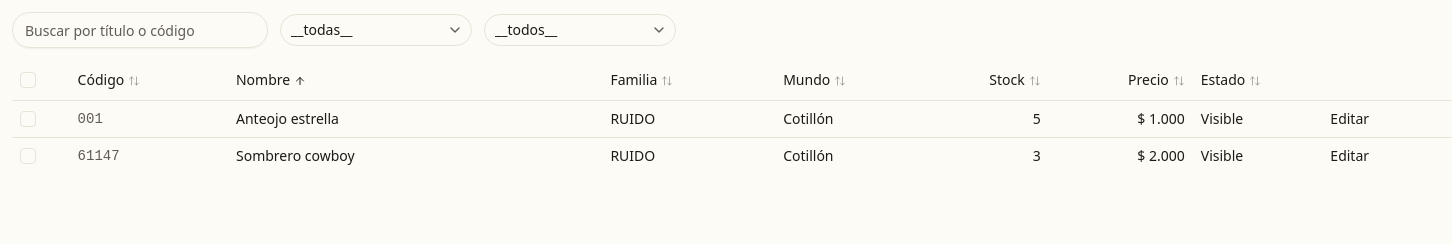
Test: PublicadoTab — selección múltiple › cambiar la búsqueda limpia la selección (una fila seleccionada puede quedar oculta por el filtro)
This screenshot has width=1452, height=244.
Check: the row "001 Anteojo estrella RUIDO Cotillón 5 $ 1.000 Visible Editar" is shown, box [12,100,1451,137]
Click the checkbox named "Seleccionar Anteojo estrella".
click(28, 118)  # box [20,110,36,126]
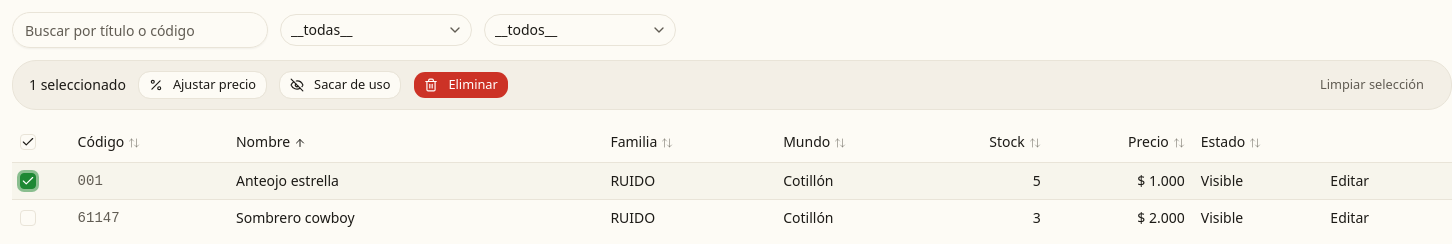
Check: the text "1 seleccionado" is shown, box [29,75,126,95]
Type "sombrero" into the search field with placeholder "Buscar por título o código".
click(140, 30); type("sombrero")  # box [12,12,268,48]
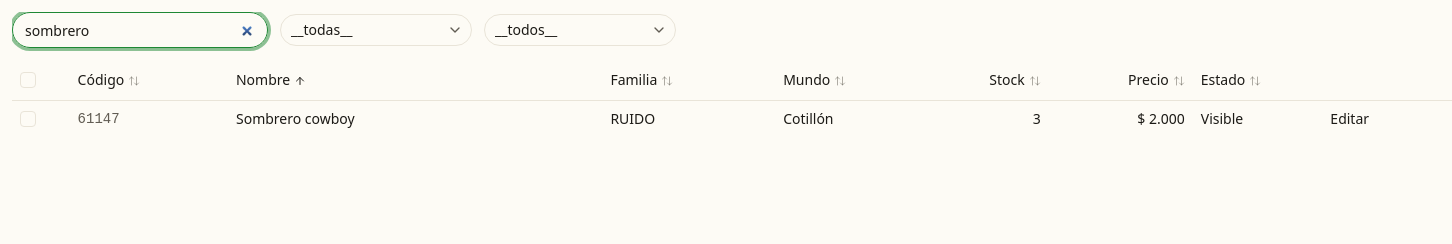
Check: the text "seleccionado" is gone
